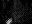person: (6, 18, 11, 23)
